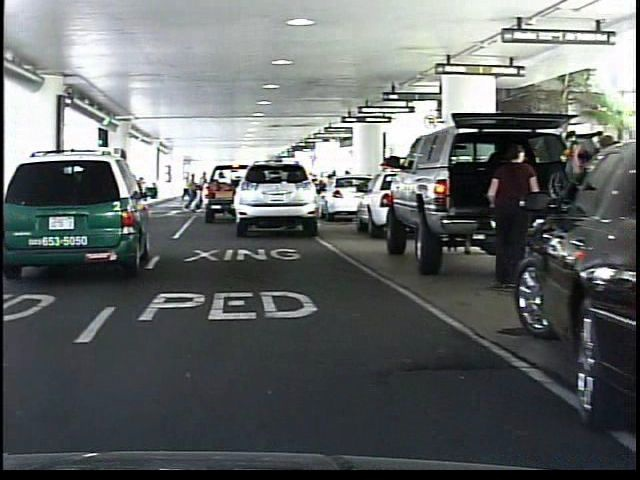person: (476, 141, 539, 287)
